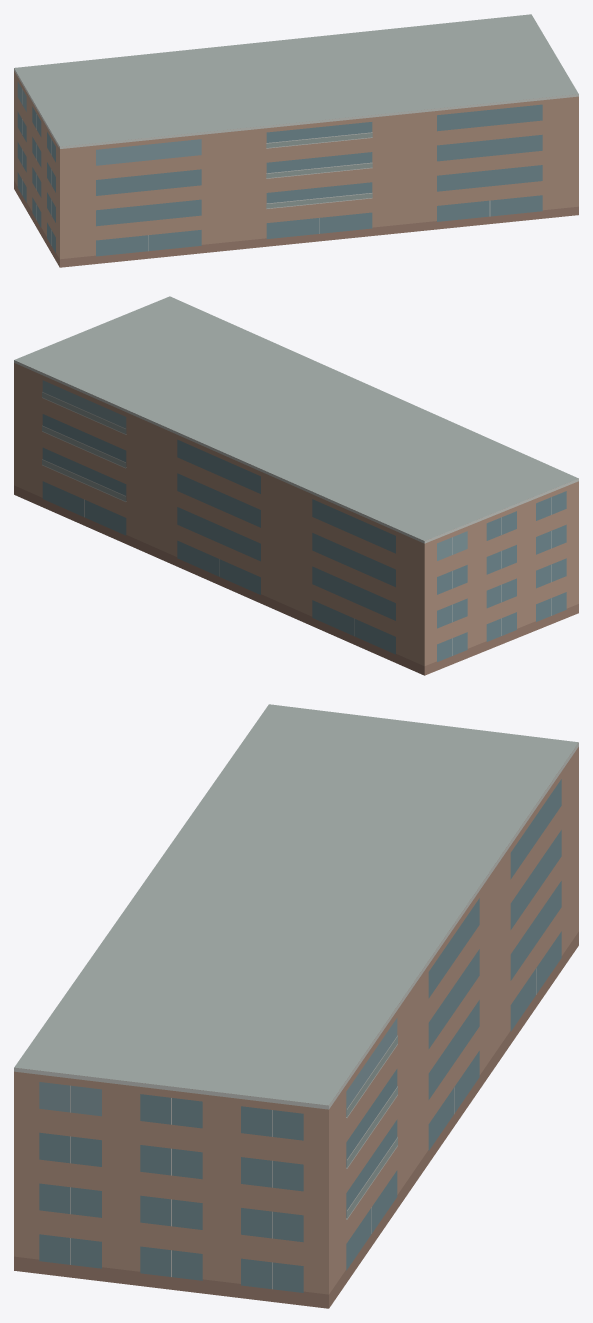
File: residential-5d87f812-10fe-49d5-8332-a230c6895479.glb
The picture shows the model from 3 angles, top to bottom: view 1: azimuth 30°, elevation 25°; view 2: azimuth 150°, elevation 25°; view 3: azimuth 270°, elevation 25°; orthographic projection. The views are drawn at different scales.
Parts seen in each view (by area): view 1: residential-5d87f812-10fe-49d5-8332-a230c6895479.tmp; view 2: residential-5d87f812-10fe-49d5-8332-a230c6895479.tmp; view 3: residential-5d87f812-10fe-49d5-8332-a230c6895479.tmp.
Part boxes in pixels (left/top/right/bottom): residential-5d87f812-10fe-49d5-8332-a230c6895479.tmp: left=14, top=14, right=578, bottom=267; residential-5d87f812-10fe-49d5-8332-a230c6895479.tmp: left=14, top=296, right=578, bottom=675; residential-5d87f812-10fe-49d5-8332-a230c6895479.tmp: left=14, top=704, right=578, bottom=1308.
Bounding box in the file's own units: 51.69 × 12.2 × 30.75.
